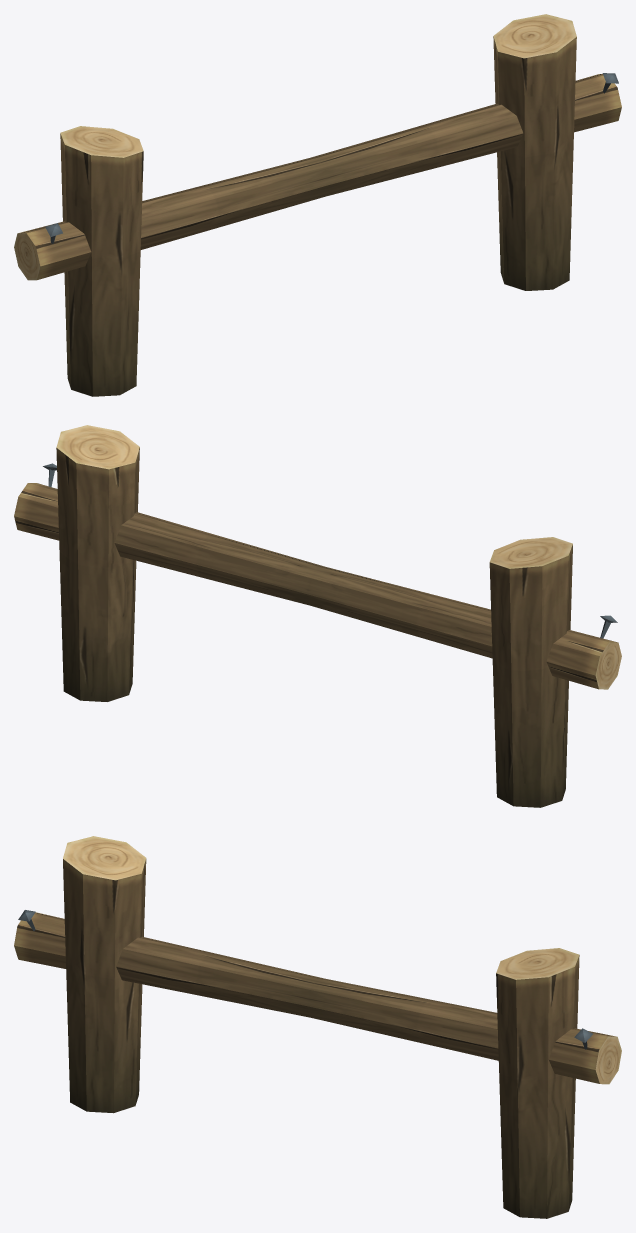
Rendered from wooden_fence_52.fbx.
The picture shows the model from 3 angles, top to bottom: view 1: azimuth 30°, elevation 25°; view 2: azimuth 150°, elevation 25°; view 3: azimuth 330°, elevation 25°; orthographic projection.
Parts seen in each view (by area): view 1: wooden_fence_52:Mesh; view 2: wooden_fence_52:Mesh; view 3: wooden_fence_52:Mesh.
Part boxes in pixels (<box>): wooden_fence_52:Mesh: <box>14,14,621,396</box>; wooden_fence_52:Mesh: <box>14,425,621,807</box>; wooden_fence_52:Mesh: <box>14,836,621,1218</box>.
Size of the model in its own units: 7.32 by 2.96 by 0.9473.
